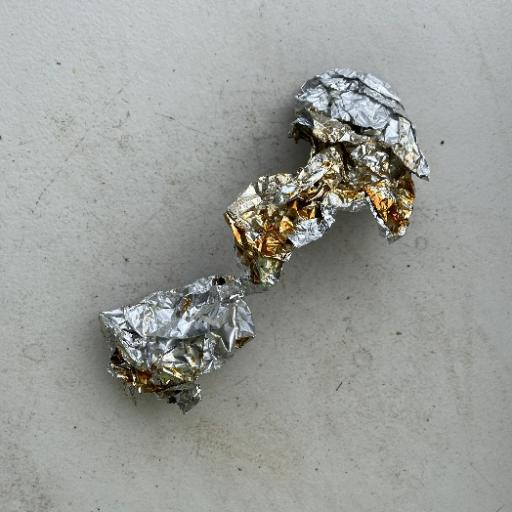Metal: (97, 66, 431, 414), (222, 66, 431, 288), (97, 273, 256, 414)
